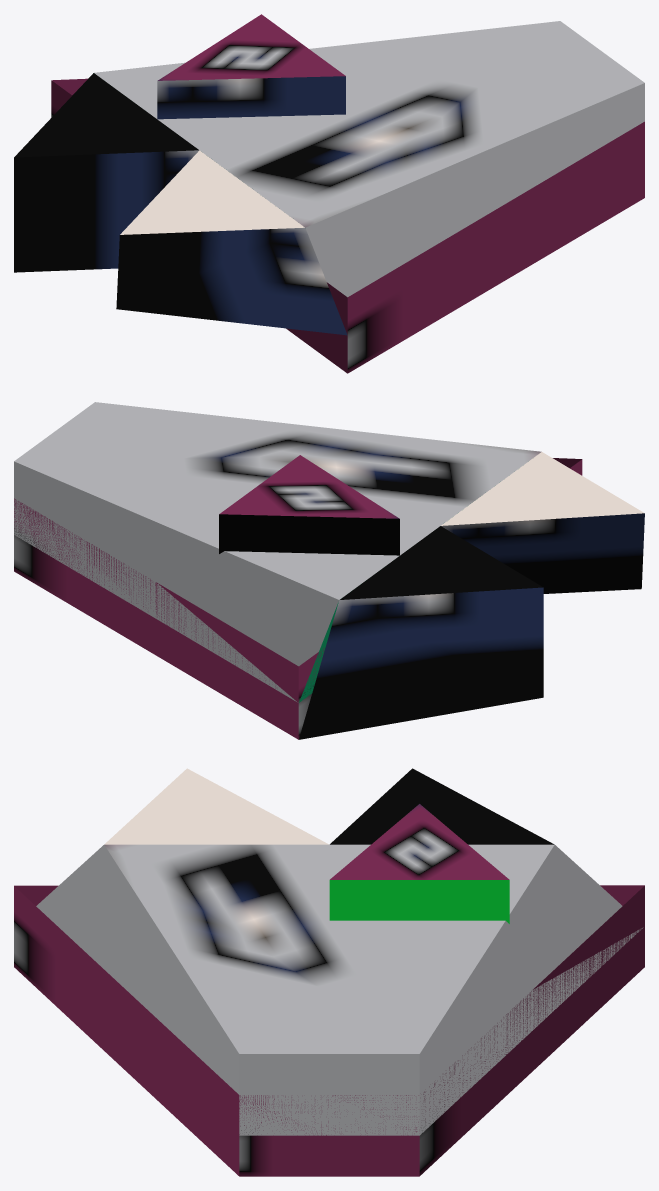
The model's file is devil_mask.obj.
3 views of the same model, one above another, from view 1: azimuth 30°, elevation 25°; view 2: azimuth 150°, elevation 25°; view 3: azimuth 270°, elevation 25° (orthographic). The views are drawn at different scales.
Visible parts, largest first — view 1: devil_mask; view 2: devil_mask; view 3: devil_mask.
Part boxes in pixels (x1=…): devil_mask: x1=14, y1=14, x2=644, y2=373; devil_mask: x1=14, y1=402, x2=644, y2=739; devil_mask: x1=14, y1=768, x2=644, y2=1176.
Bounding box in the file's own units: 3.75 × 1 × 3.5.
1 material, 1 textured.
